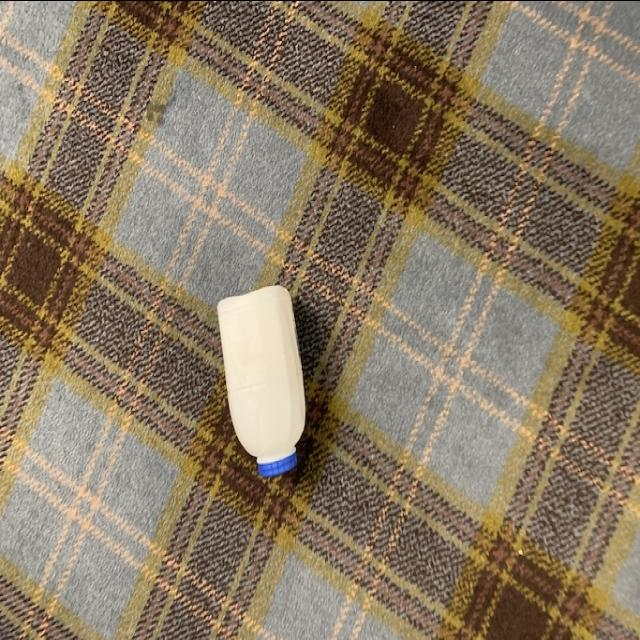litter: (210, 282, 311, 484)
